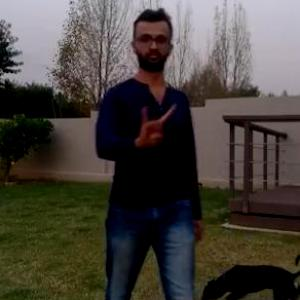takeoff-hand: (138, 100, 178, 148)
